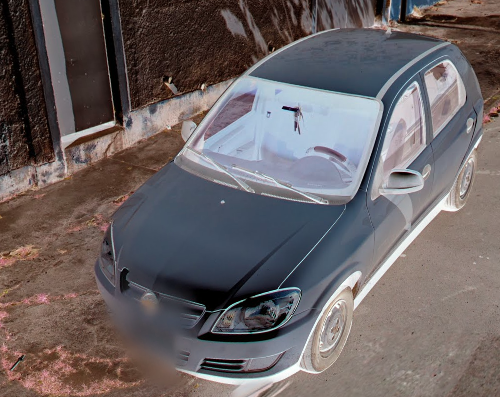car: (94, 27, 485, 385)
